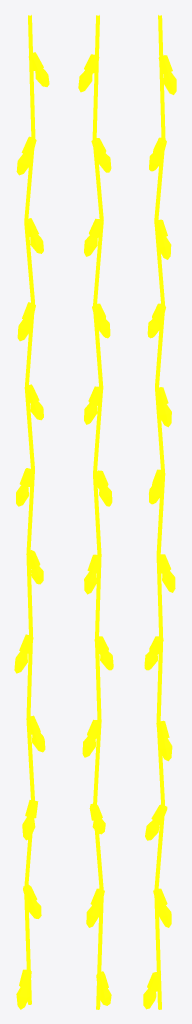
The model's file is light-string-color-big-vertical-3m-christmas.glb.
The picture shows the model from 3 angles, left to right: view 1: azimuth 30°, elevation 25°; view 2: azimuth 210°, elevation 25°; view 3: azimuth 330°, elevation 25°; orthographic projection.
Visible parts, largest first — view 1: light_string_color_big_vertical_3m_christmas; view 2: light_string_color_big_vertical_3m_christmas; view 3: light_string_color_big_vertical_3m_christmas.
Part boxes in pixels (x1,y1,x2,y2): light_string_color_big_vertical_3m_christmas: (14, 15, 49, 1009); light_string_color_big_vertical_3m_christmas: (78, 15, 113, 1009); light_string_color_big_vertical_3m_christmas: (143, 15, 176, 1009).
Bounding box in the file's own units: 0.1045 × 3 × 0.0615.
2 materials, 2 textured.
